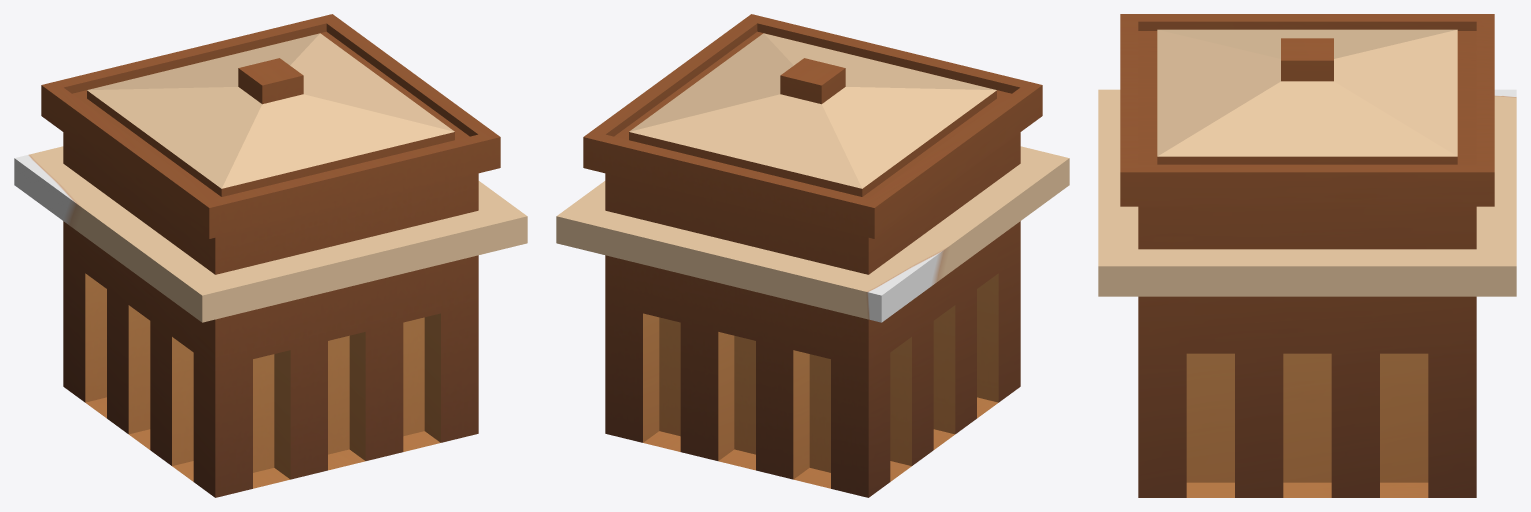
3 renders of one model, left to right at view 1: azimuth 30°, elevation 25°; view 2: azimuth 150°, elevation 25°; view 3: azimuth 270°, elevation 25°, orthographic. The views are drawn at different scales.
Visible parts, largest first — view 1: Pier.001; view 2: Pier.001; view 3: Pier.001.
Part boxes in pixels (bbox=[...]): Pier.001: bbox=[14, 14, 527, 497]; Pier.001: bbox=[556, 14, 1069, 497]; Pier.001: bbox=[1098, 14, 1516, 497].
Bounding box in the file's own units: 74.18 × 73.77 × 74.18.
